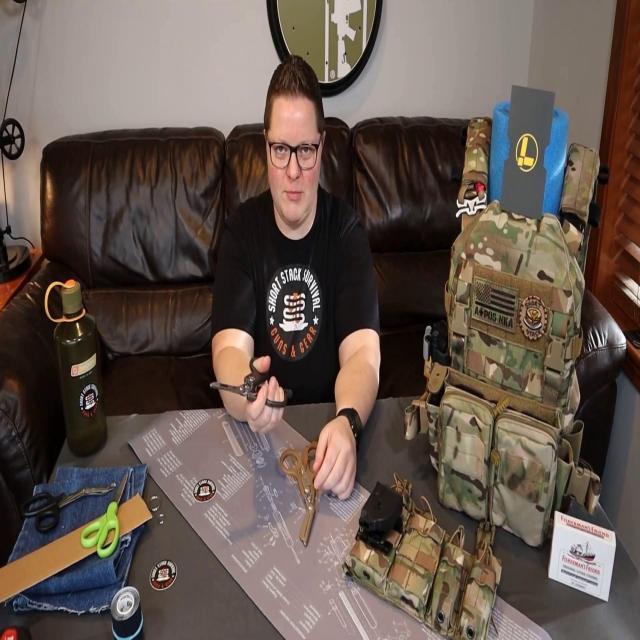scissor: (20, 479, 116, 534), (210, 356, 294, 409), (80, 471, 129, 559), (280, 440, 319, 547)
